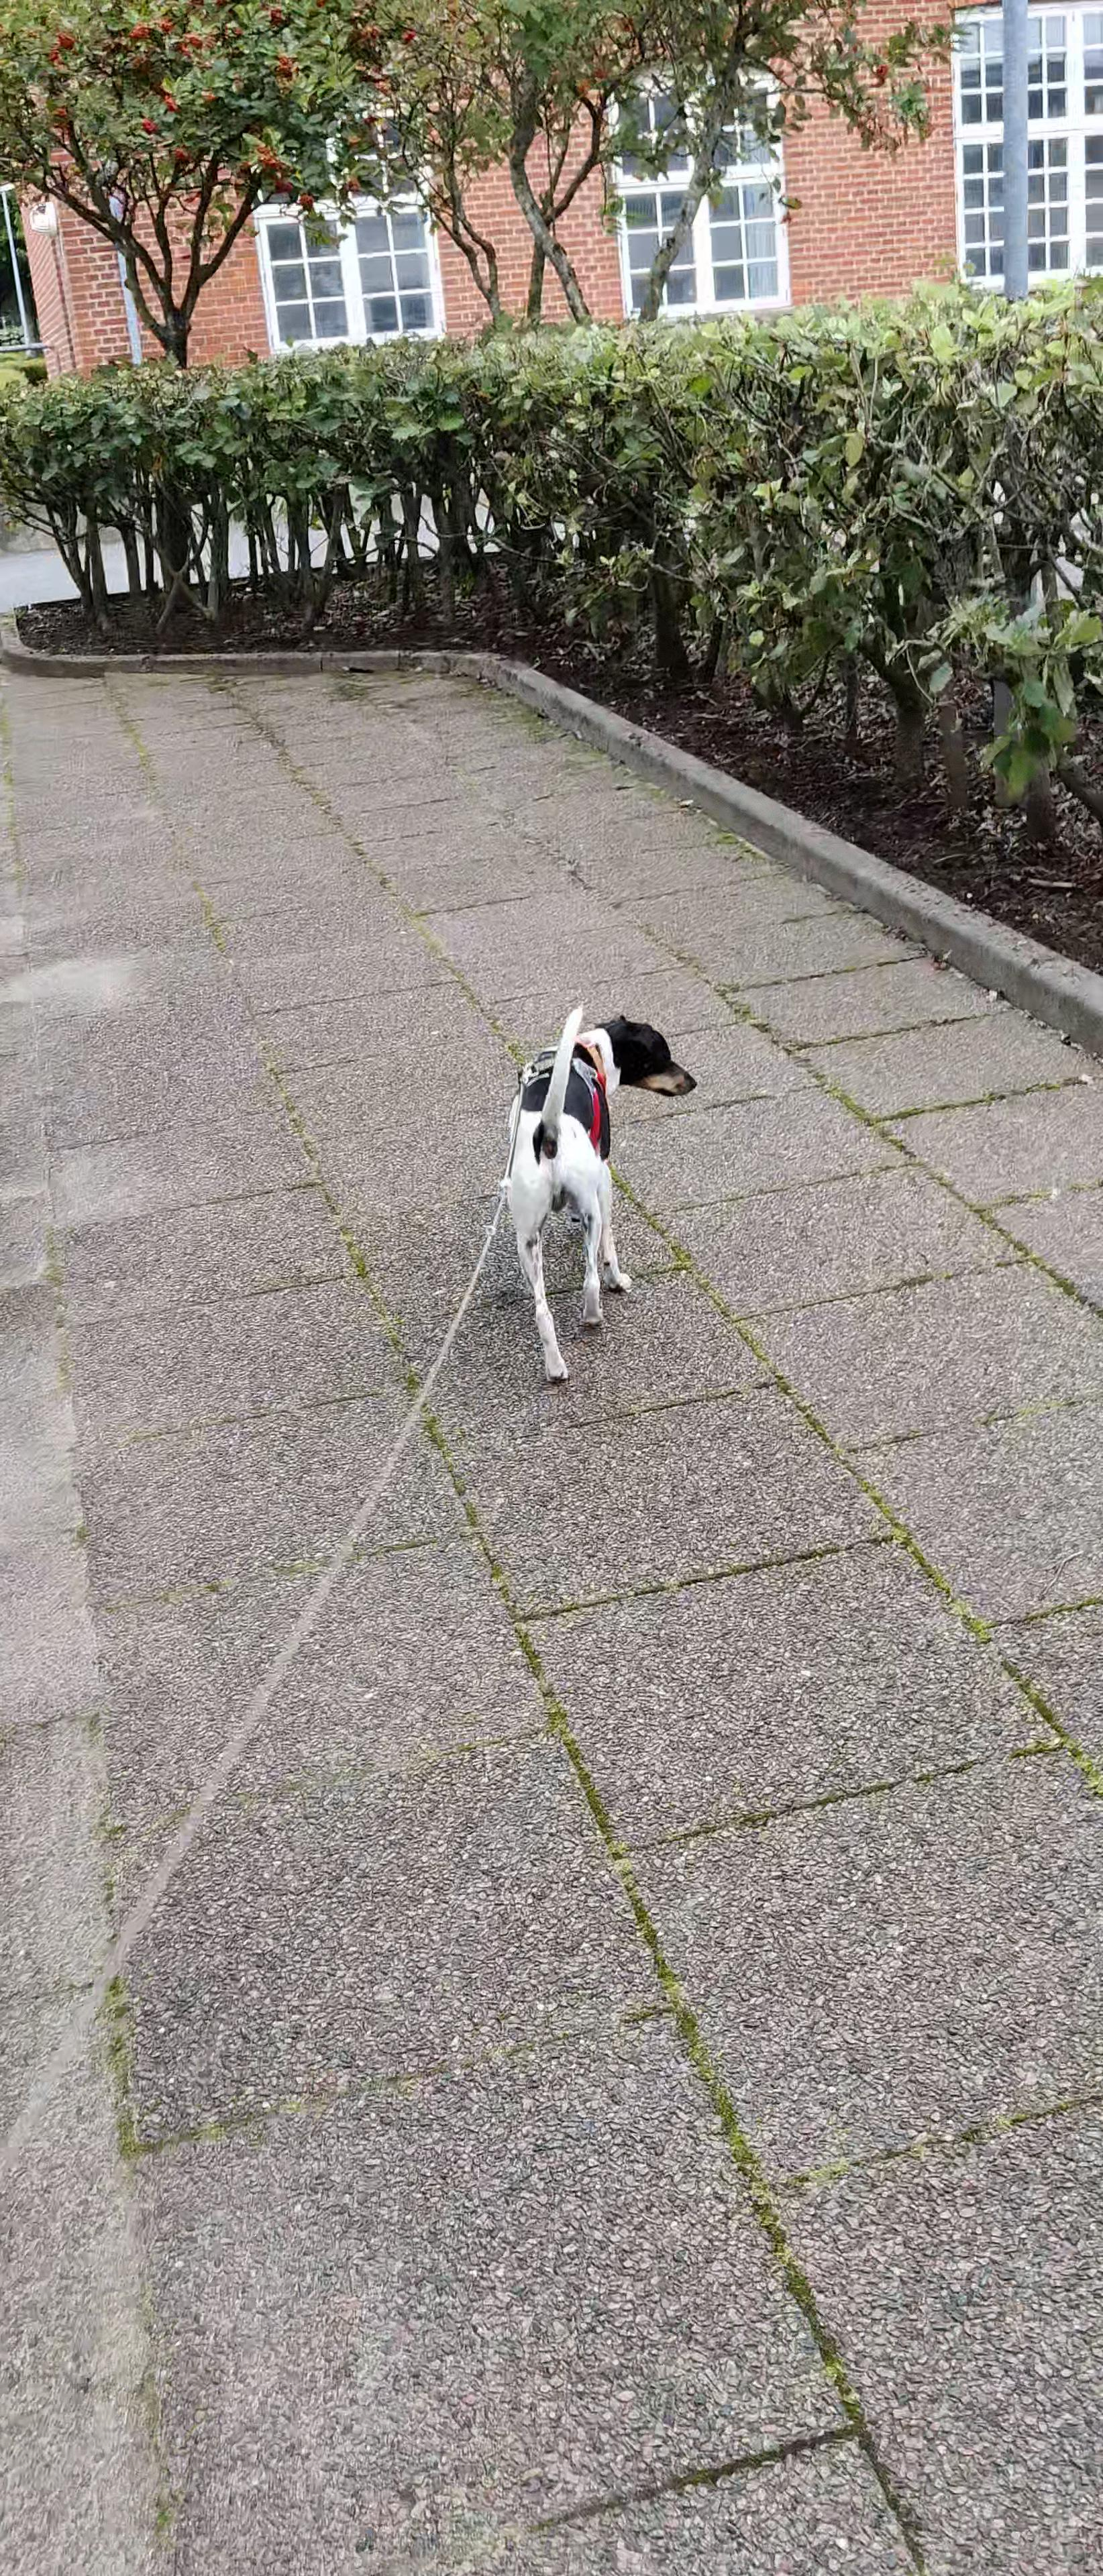Dog: (498, 997, 705, 1390)
